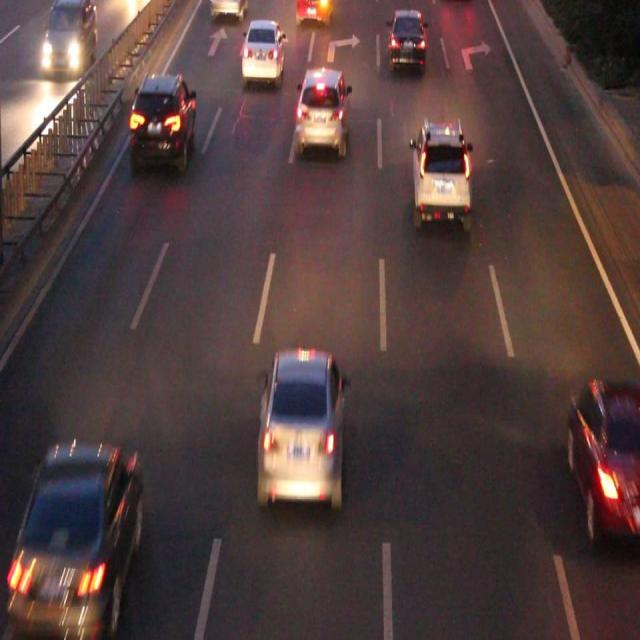car: (21, 447, 140, 608), (259, 353, 342, 505), (568, 383, 640, 537), (412, 126, 469, 221), (132, 77, 194, 164), (296, 69, 347, 151), (242, 20, 283, 80), (388, 11, 422, 65), (297, 1, 332, 20), (210, 2, 244, 15)
